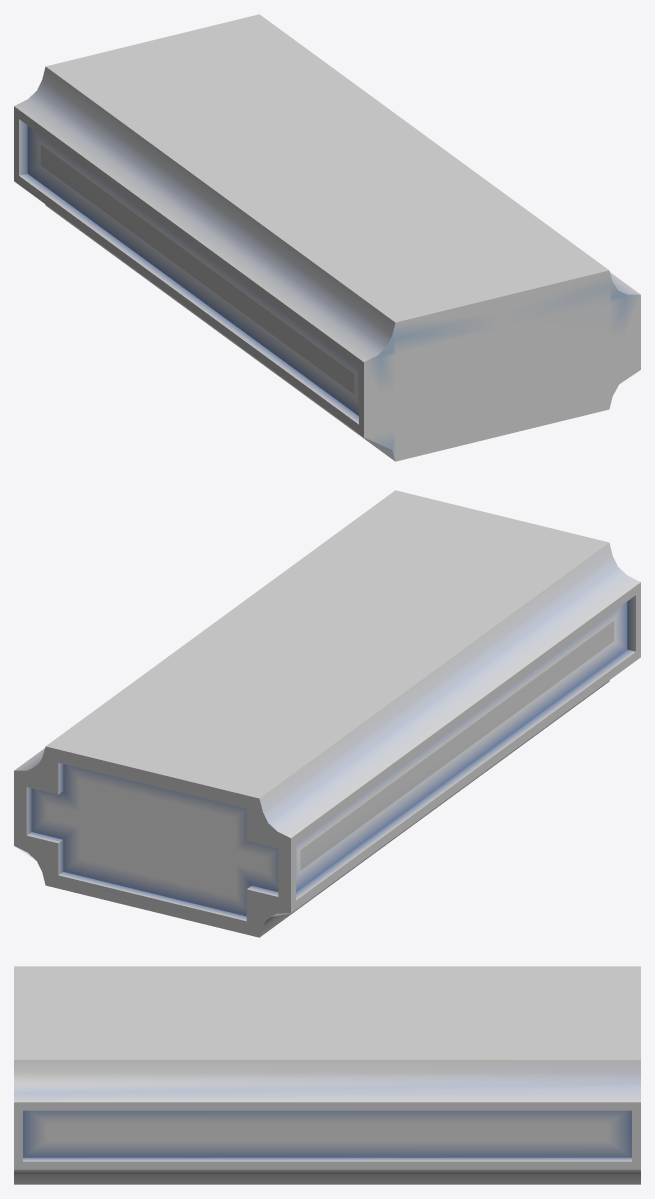
The model's file is Pushblock_short_01.fbx.
3 renders of one model, top to bottom at view 1: azimuth 30°, elevation 25°; view 2: azimuth 150°, elevation 25°; view 3: azimuth 270°, elevation 25°, orthographic. The views are drawn at different scales.
Visible parts, largest first — view 1: Pushblock_short; view 2: Pushblock_short; view 3: Pushblock_short.
Boxes of the visible parts, x1,y1,x2,y2 form: Pushblock_short: [14, 14, 640, 461]; Pushblock_short: [14, 490, 640, 937]; Pushblock_short: [14, 966, 640, 1184].
Bounding box in the file's own units: 320 × 154 × 700.
